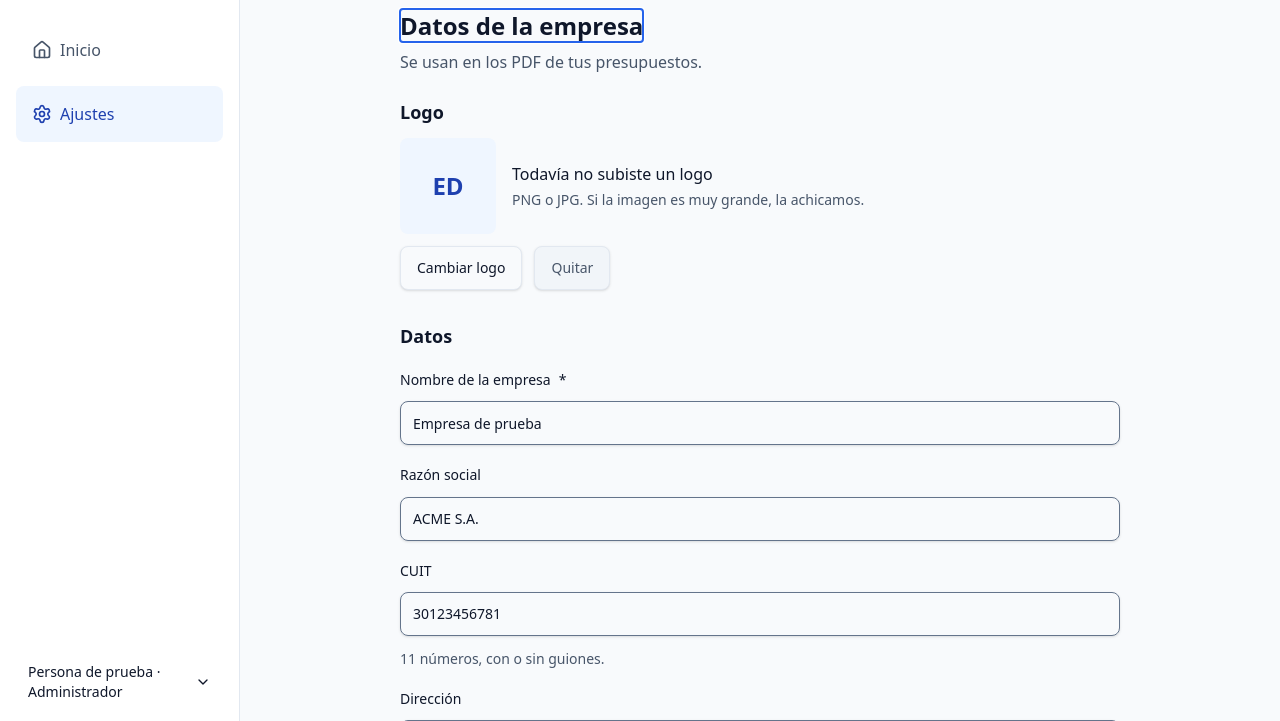
Test case: CompanyPage data form › blocks a CUIT with a wrong check digit without sending anything
The width and height of the screenshot is (1280, 721).
Expected: the heading "Datos de la empresa" is shown, [400,10,643,42]
Replace the text in the field labelled "CUIT" with "30123456782" at (760,614), box [400,592,1120,636]
(page scrolled)
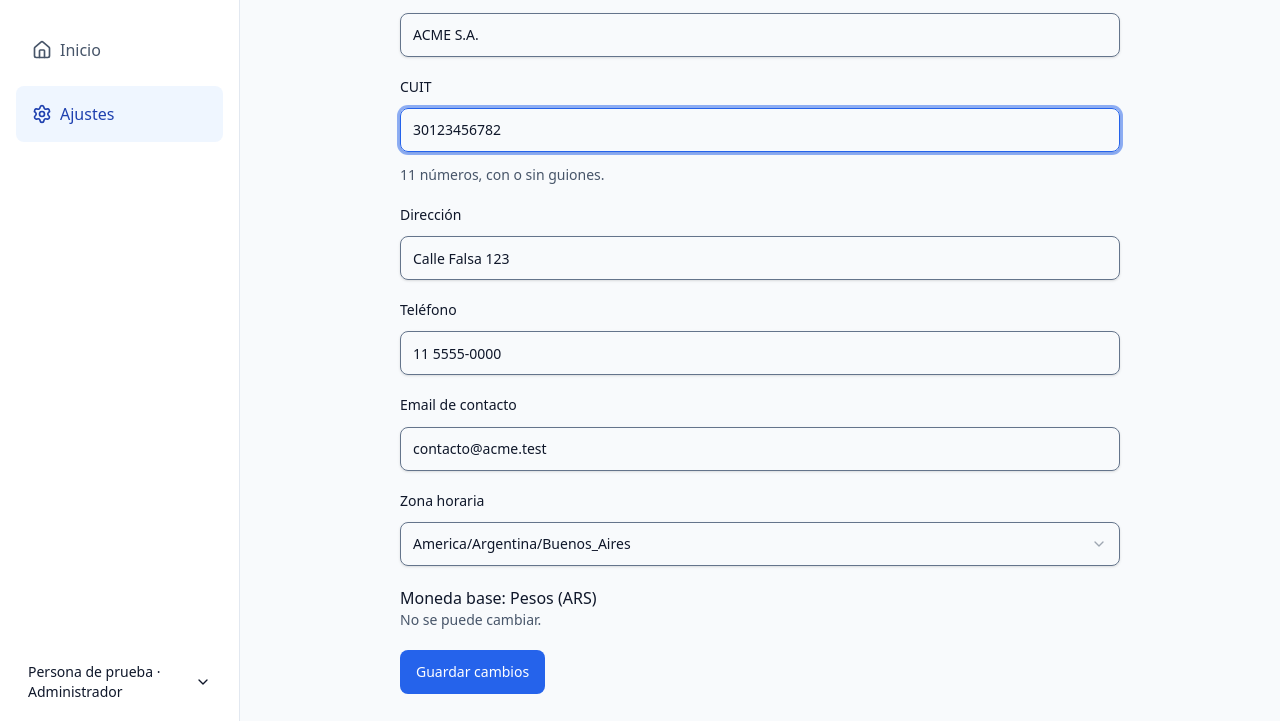
Click the button "Guardar cambios" at (473,672), box [400,650,545,694]
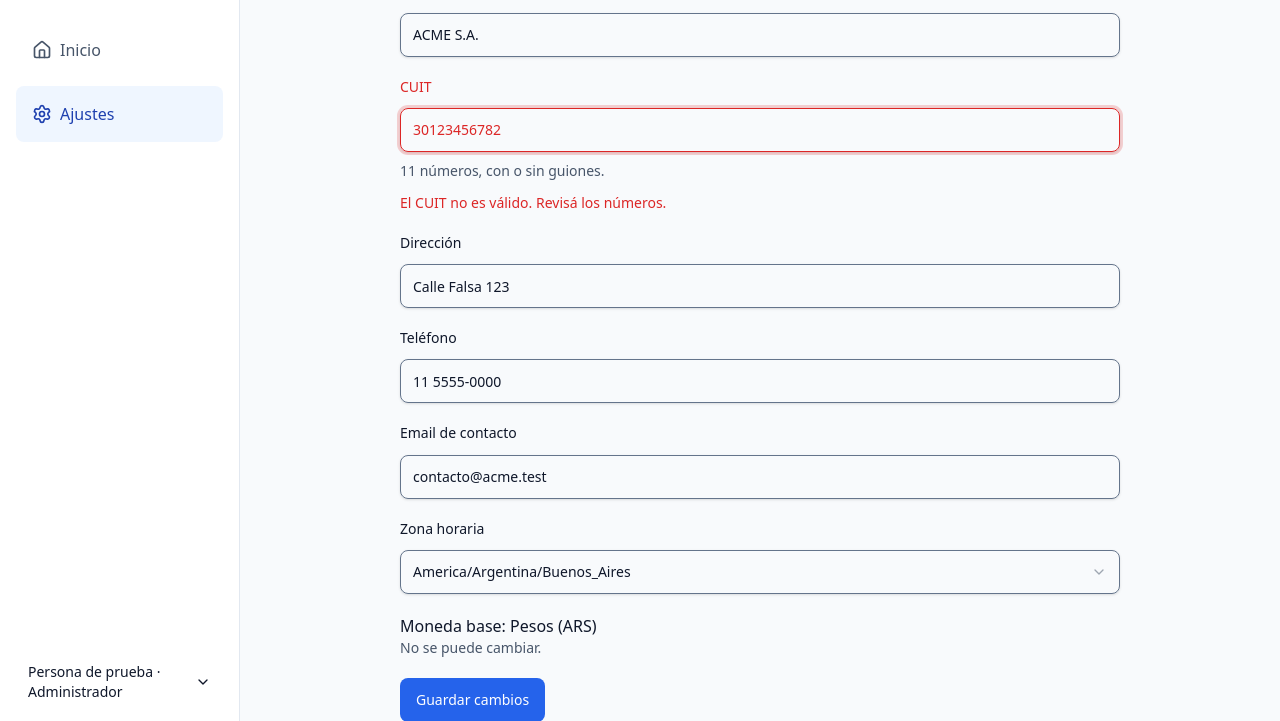
Expected: the text "El CUIT no es válido. Revisá los números." is shown, [400,193,666,212]
